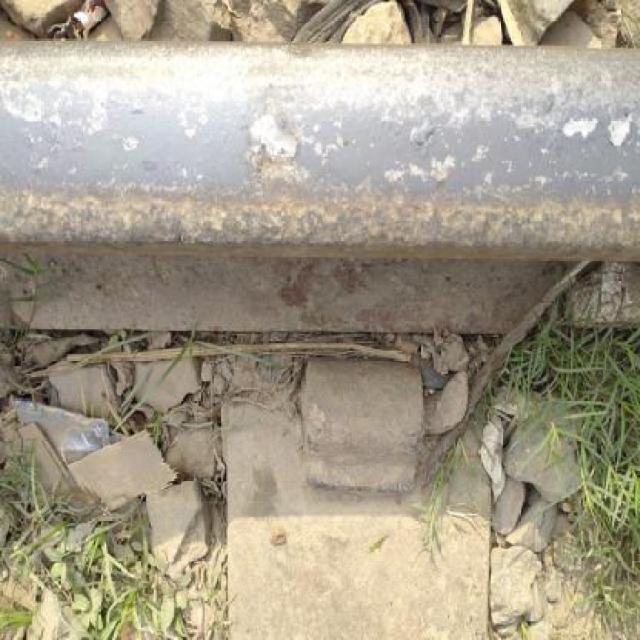defective: (6, 27, 640, 381)
